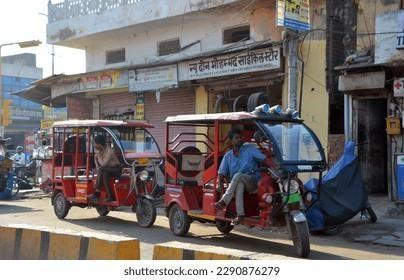keke: (50, 120, 162, 232)
